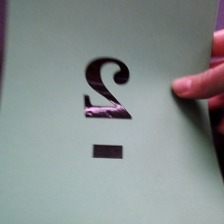green2: (78, 50, 140, 168)
